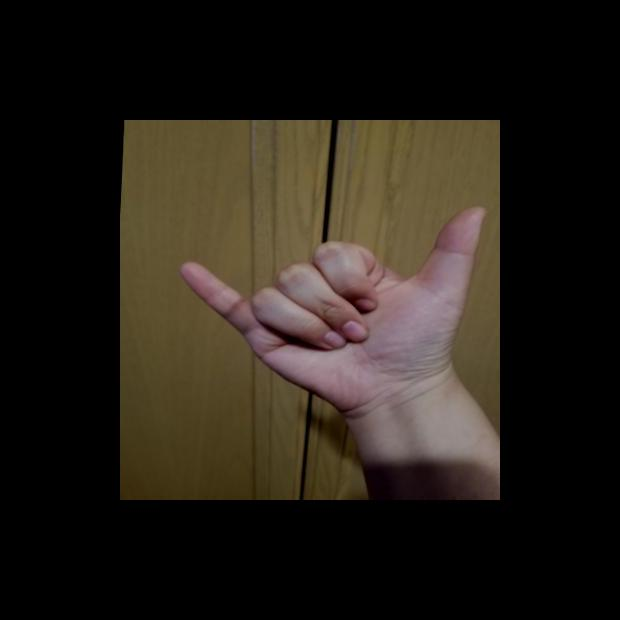X: (165, 188, 494, 424)
